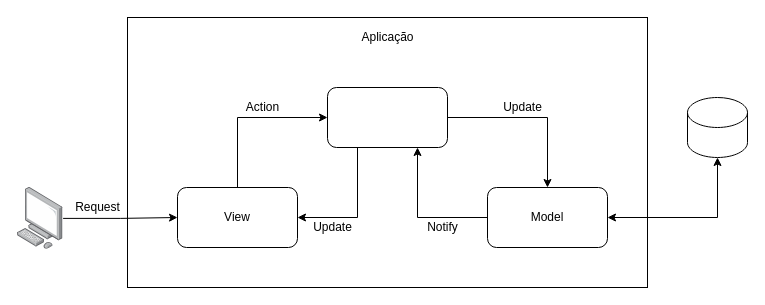
The diagram is 765 pixels wide and 305 high, and some of its shapes have lost their labels. Here are the shapes that lost their labels. From the top down, the centre of each, then its label:
At (x=387, y=117): "Controller".
At (x=717, y=127): "DB".
